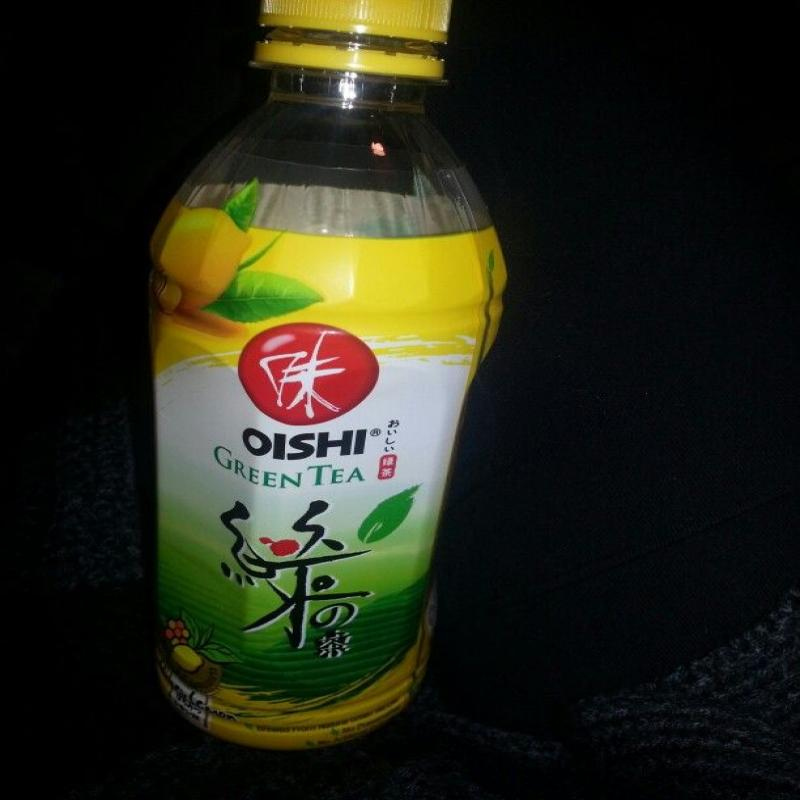botella: (158, 0, 494, 758)
